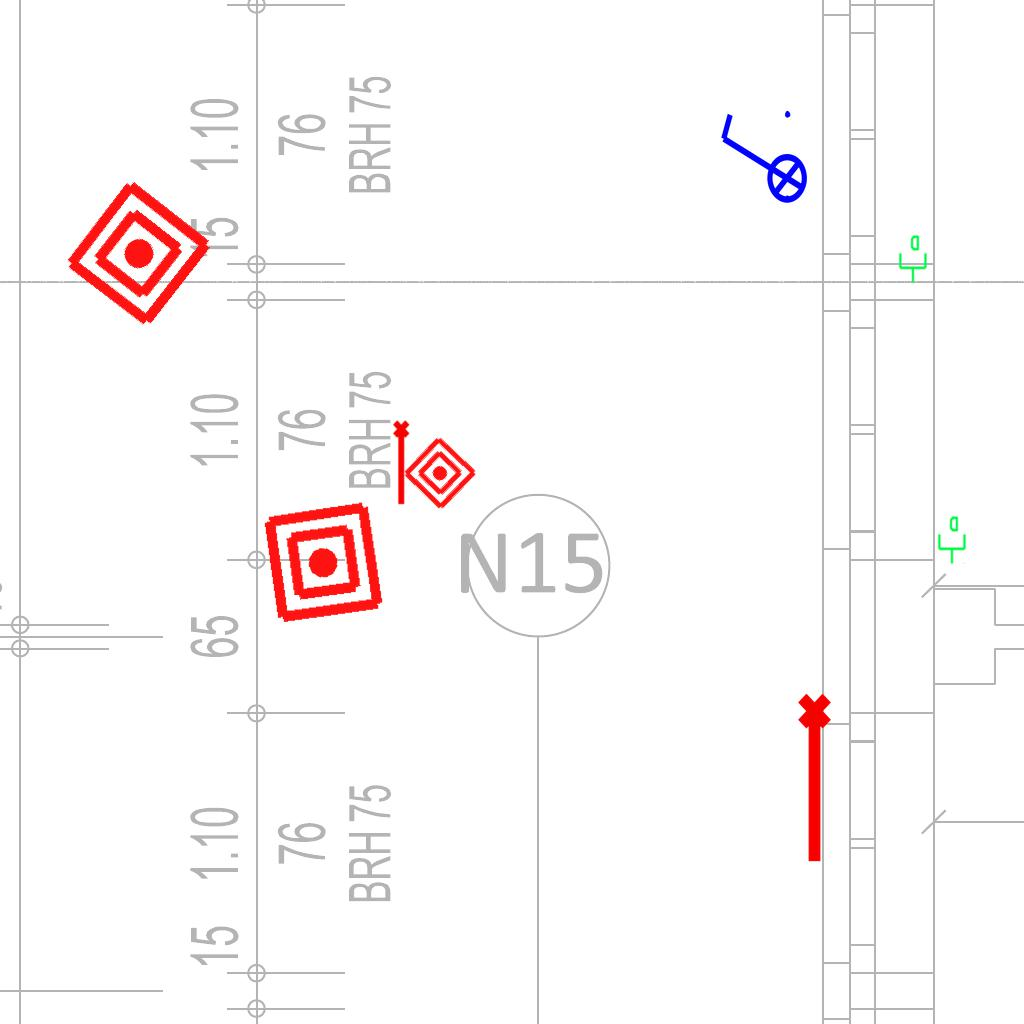ASR_Ansaugoeffnung: (794, 691, 840, 867), (391, 419, 414, 507)
Ausschalter_beleuchtet: (713, 105, 809, 217)
Datenanschluss_einfach: (895, 234, 929, 284), (934, 515, 968, 565)
NAM-Nichtautomatischer_Melder: (59, 174, 218, 333), (259, 498, 388, 627), (400, 433, 480, 513)
